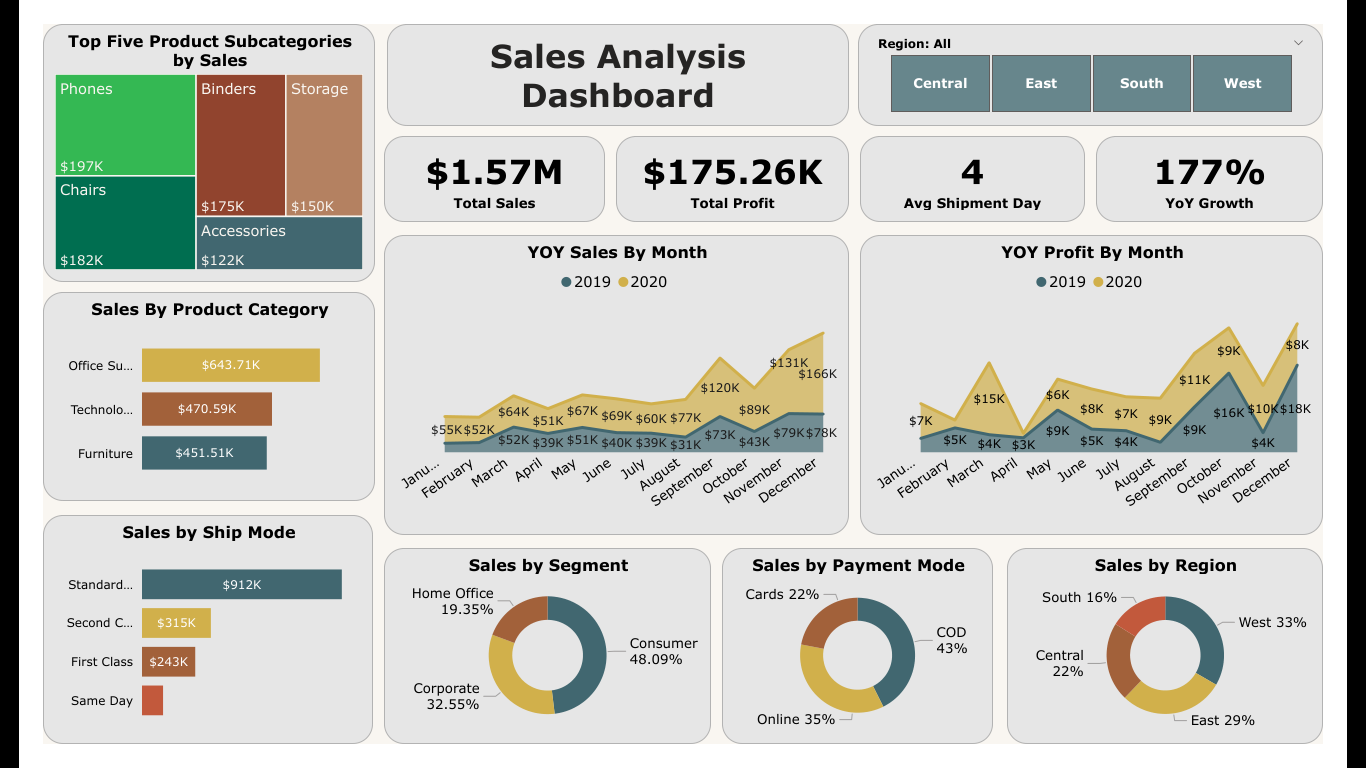

This screenshot's page, from the dashboard's own definition file:
{"tool":"powerbi","page":{"name":"Sales Analysis Dashboard","canvas":[1280,720],"ordinal":0},"visuals":[{"type":"stackedAreaChart","title":"YOY Sales By Month","fields":{"Y":["Sum(Sales Analysis.Sales)"],"Series":["DateTable.Date.Variation.Date Hierarchy.Year"],"Category":["DateTable.Date.Variation.Date Hierarchy.Month"]},"box":[340.9,210.6,465.2,300],"z":0},{"type":"stackedAreaChart","title":"YOY Profit By Month","fields":{"Category":["DateTable.Date.Variation.Date Hierarchy.Month"],"Y":["Sum(Sales Analysis.Profit)"],"Series":["DateTable.Date.Variation.Date Hierarchy.Year"]},"box":[816.7,210.6,463.6,300],"z":1000},{"type":"barChart","title":"Sales By Product Category","fields":{"Category":["Sales Analysis.Category"],"Y":["Sum(Sales Analysis.Sales)"],"Series":["Sales Analysis.Category"]},"box":[0,268.2,331.8,209.1],"z":2000},{"type":"treemap","title":"Top Five Product Subcategories by Sales","fields":{"Group":["Sales Analysis.Sub-Category"],"Values":["Sum(Sales Analysis.Sales)"]},"box":[0,0,331.8,257.6],"z":3000},{"type":"donutChart","title":"Sales by Region","fields":{"Y":["Sum(Sales Analysis.Sales)"],"Category":["Sales Analysis.Region"]},"box":[963.6,524.2,316.7,195.5],"z":4000},{"type":"donutChart","title":"Sales by Payment Mode","fields":{"Y":["Sum(Sales Analysis.Sales)"],"Category":["Sales Analysis.Payment Mode"]},"box":[678.8,524.2,271.2,195.5],"z":5000},{"type":"barChart","title":"Sales by Ship Mode","fields":{"Category":["Sales Analysis.Ship Mode"],"Y":["Sum(Sales Analysis.Sales)"],"Series":["Sales Analysis.Ship Mode"]},"box":[0,490.9,330.3,228.8],"z":6000},{"type":"donutChart","title":"Sales by Segment","fields":{"Y":["Sum(Sales Analysis.Sales)"],"Category":["Sales Analysis.Segment"]},"box":[340.9,524.2,327.3,195.5],"z":7000},{"type":"card","fields":{"Values":["Sales Analysis.Total Sales"]},"box":[340.9,112.1,221.2,86.4],"z":8000},{"type":"card","fields":{"Values":["Sales Analysis.Total Profit"]},"box":[572.7,112.1,233.3,86.4],"z":9000},{"type":"card","fields":{"Values":["Sales Analysis.Average Shipment Day"]},"box":[816.7,112.1,225.8,86.4],"z":10000},{"type":"card","fields":{"Values":["Sales Analysis.YoY Growth"]},"box":[1053,112.1,227.3,86.4],"z":11000},{"type":"slicer","title":"Region","fields":{"Values":["Sales Analysis.Region"]},"box":[815.2,0,465.2,101.5],"z":12000},{"type":"textbox","box":[343.9,0,462.1,101.5],"z":12001}]}

Visuals, with their boxes in screenshot pixels (x1, y1, x2, y2), scaled from the page's 1280x720 canvas onto the 1366x768 screenshot:
"YOY Sales By Month" stackedAreaChart: bbox(364, 225, 860, 545)
"YOY Profit By Month" stackedAreaChart: bbox(872, 225, 1365, 545)
"Sales By Product Category" barChart: bbox(0, 286, 354, 509)
"Top Five Product Subcategories by Sales" treemap: bbox(0, 0, 354, 275)
"Sales by Region" donutChart: bbox(1028, 559, 1365, 767)
"Sales by Payment Mode" donutChart: bbox(724, 559, 1014, 767)
"Sales by Ship Mode" barChart: bbox(0, 524, 352, 767)
"Sales by Segment" donutChart: bbox(364, 559, 713, 767)
card - Sales Analysis.Total Sales: bbox(364, 120, 600, 212)
card - Sales Analysis.Total Profit: bbox(611, 120, 860, 212)
card - Sales Analysis.Average Shipment Day: bbox(872, 120, 1113, 212)
card - Sales Analysis.YoY Growth: bbox(1124, 120, 1365, 212)
"Region" slicer: bbox(870, 0, 1365, 108)
textbox: bbox(367, 0, 860, 108)
